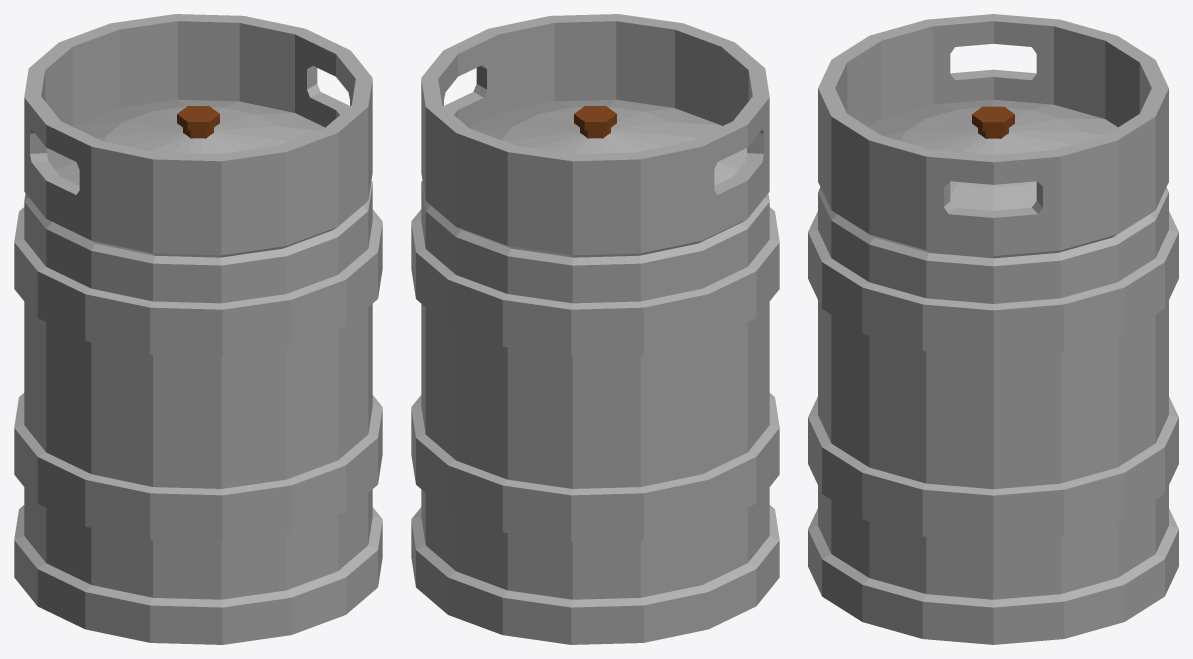
File: SM_keg.gltf
The picture shows the model from 3 angles, left to right: view 1: azimuth 30°, elevation 25°; view 2: azimuth 150°, elevation 25°; view 3: azimuth 270°, elevation 25°; orthographic projection.
Parts seen in each view (by area): view 1: SM_keg; view 2: SM_keg; view 3: SM_keg.
Part boxes in pixels (bbox=[...]): SM_keg: bbox=[14, 14, 382, 644]; SM_keg: bbox=[411, 14, 779, 644]; SM_keg: bbox=[808, 14, 1178, 644].
Size of the model in its own units: 0.5955 by 0.8474 by 0.5955.
Materials: 1 (1 with a texture image).
